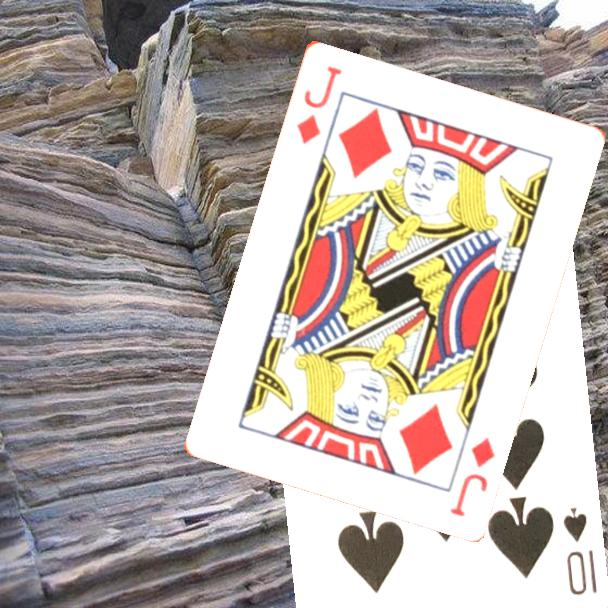d11: (292, 61, 344, 147), (446, 433, 498, 519)
s10: (559, 503, 599, 598)
